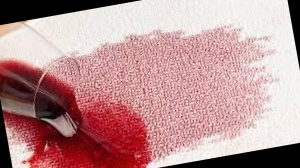wine: (53, 20, 262, 162), (23, 92, 143, 168)
